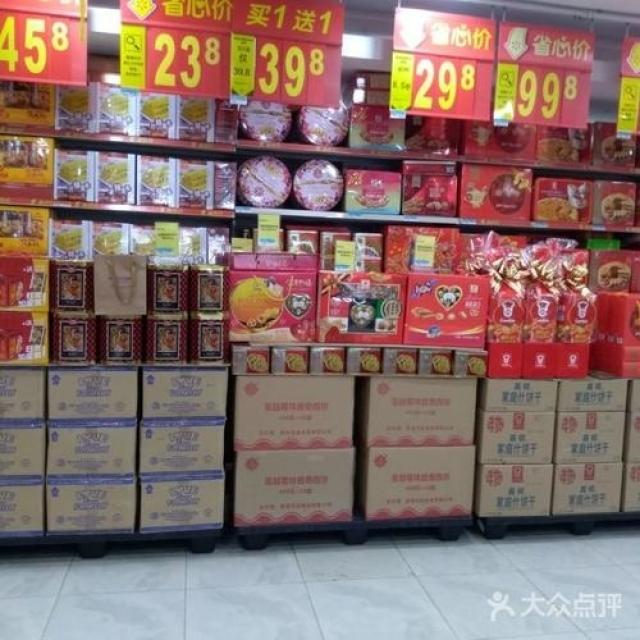box: (234, 448, 356, 526), (234, 375, 353, 452), (361, 447, 476, 520), (361, 376, 475, 447), (315, 273, 408, 346), (403, 274, 490, 348), (228, 271, 316, 342), (45, 421, 136, 480), (140, 474, 225, 535), (142, 366, 228, 426), (45, 480, 136, 536), (47, 367, 137, 422), (472, 410, 558, 466), (590, 289, 640, 380), (141, 424, 225, 477), (472, 463, 554, 517), (461, 165, 532, 220), (552, 462, 623, 515), (553, 411, 625, 463), (384, 228, 461, 273), (0, 136, 52, 200), (531, 177, 594, 224), (463, 120, 538, 159), (557, 370, 626, 412), (0, 257, 49, 314), (0, 422, 46, 481), (476, 379, 558, 412), (0, 367, 50, 421), (0, 480, 45, 539), (0, 312, 49, 366), (0, 81, 55, 129), (0, 207, 49, 257), (349, 106, 404, 150), (534, 123, 594, 163), (404, 114, 461, 155), (346, 172, 401, 214), (93, 152, 137, 204), (52, 82, 97, 132), (403, 175, 457, 216), (97, 83, 137, 136), (129, 223, 178, 266), (54, 150, 93, 204), (137, 155, 178, 206), (590, 123, 636, 166), (177, 157, 214, 210), (591, 182, 635, 225), (175, 95, 215, 142), (136, 93, 175, 138), (88, 220, 129, 262), (225, 253, 319, 271), (49, 218, 88, 261), (590, 252, 632, 289), (177, 225, 207, 266), (618, 463, 640, 513), (622, 413, 640, 463), (403, 160, 456, 175), (626, 379, 640, 413)
